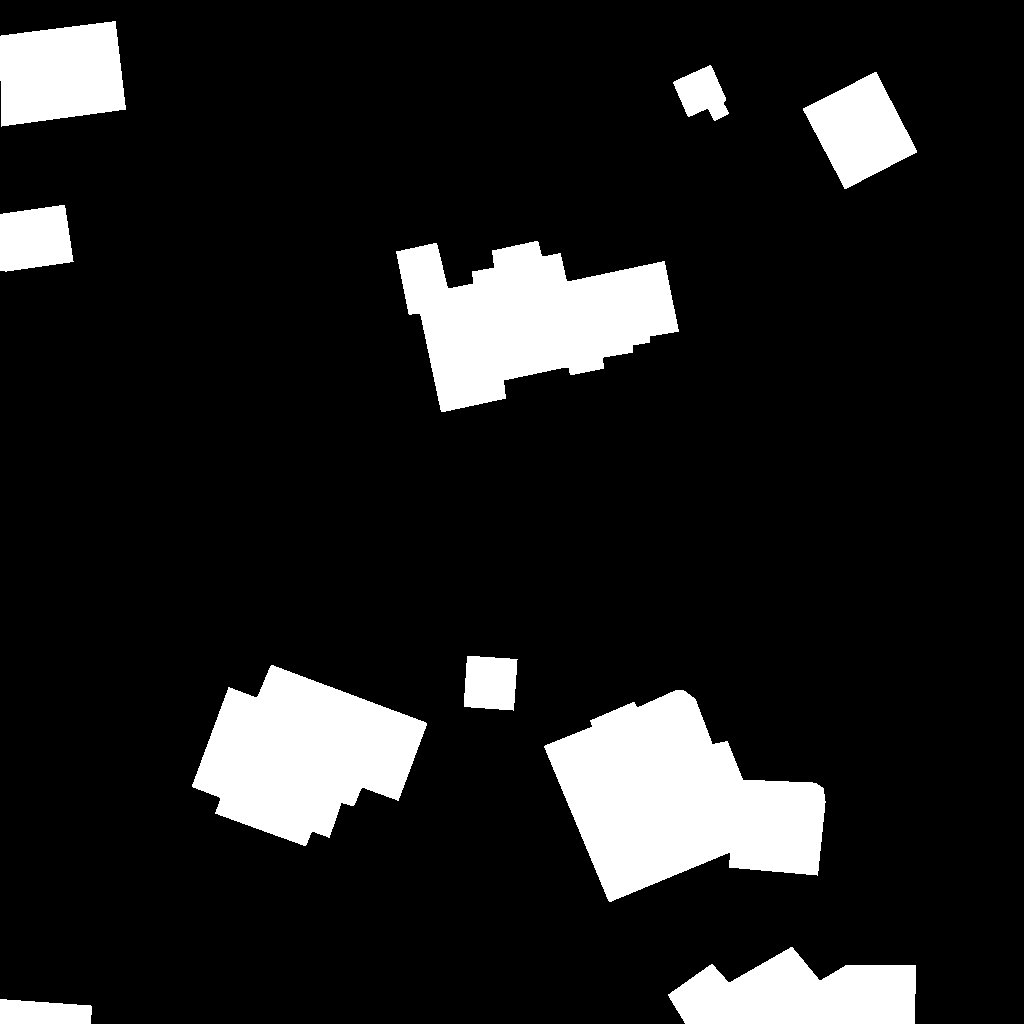building: (544, 690, 826, 903), (396, 241, 680, 413), (192, 665, 428, 847), (668, 947, 917, 1024), (803, 72, 918, 190), (0, 21, 127, 127), (0, 205, 74, 272), (673, 65, 730, 122), (464, 656, 518, 711), (0, 999, 93, 1024)
